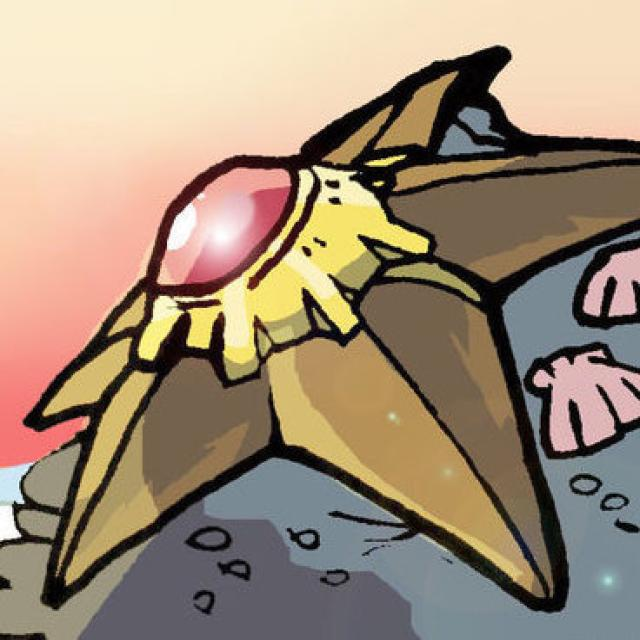Staryu: (19, 60, 640, 600)
